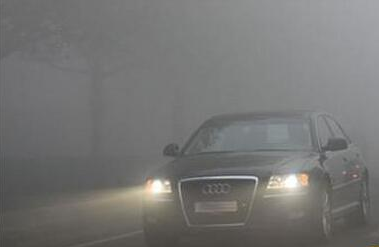car: (141, 109, 372, 244)
